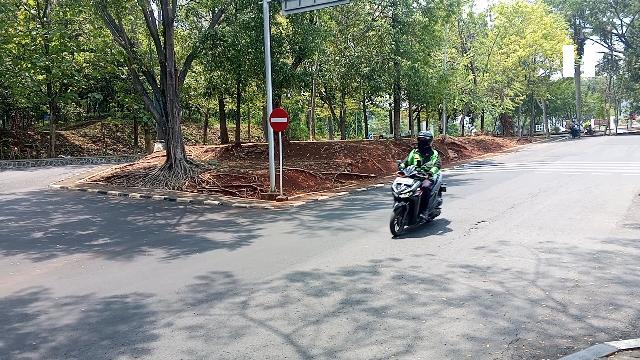helm: (418, 131, 434, 149)
motor: (390, 161, 449, 240)
